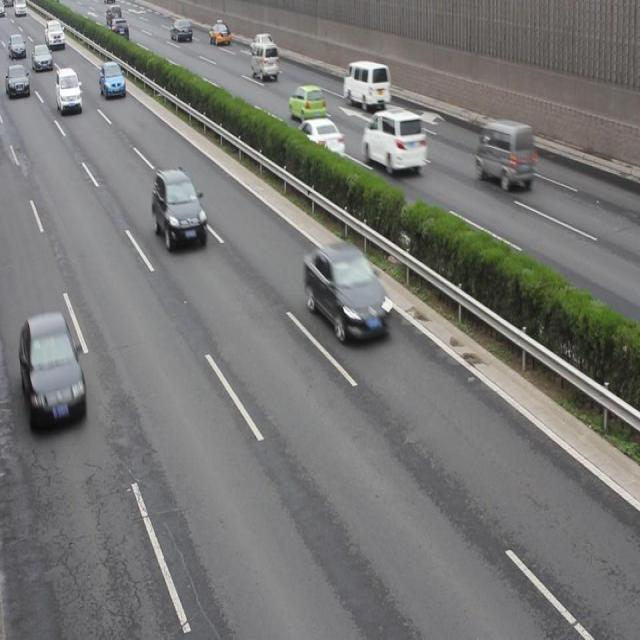car: (303, 243, 390, 342), (21, 315, 87, 427), (152, 167, 208, 250), (363, 110, 426, 174), (297, 118, 343, 159), (288, 84, 325, 122), (56, 68, 81, 112), (1, 64, 30, 96), (100, 63, 125, 97), (250, 32, 275, 56), (209, 20, 230, 44), (32, 45, 52, 70), (171, 18, 191, 42), (110, 20, 128, 46)
truck: (476, 121, 534, 188), (343, 61, 390, 106), (251, 42, 277, 80)
